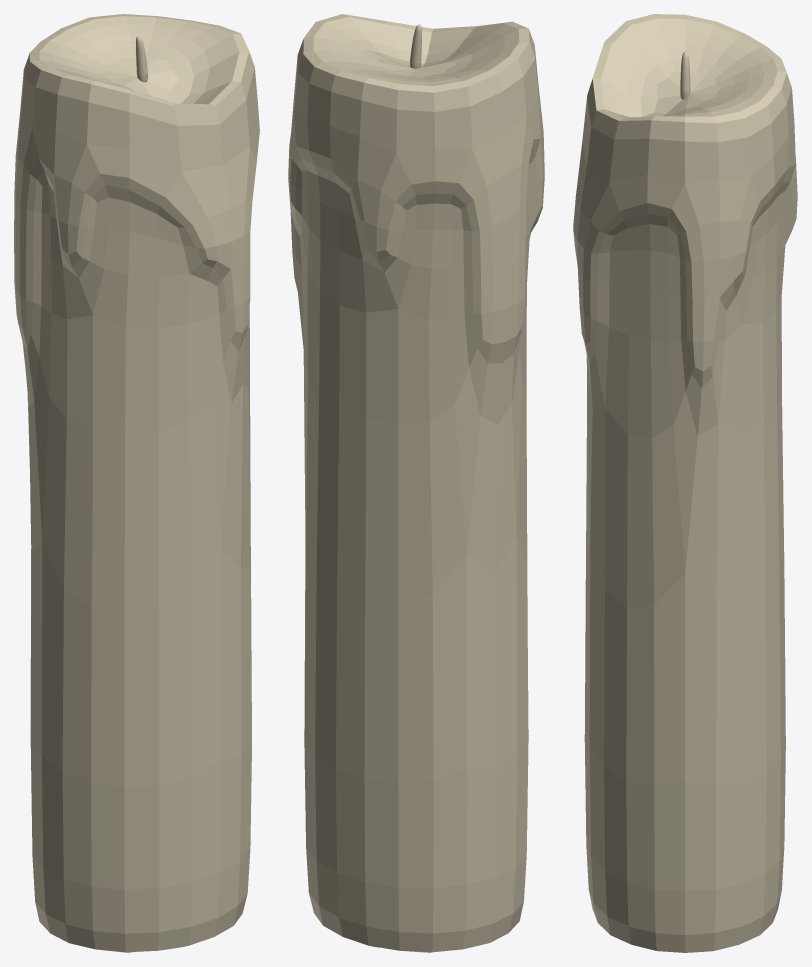
Rendered from CandleSkinnyTall.fbx.
3 renders of one model, left to right at view 1: azimuth 30°, elevation 25°; view 2: azimuth 150°, elevation 25°; view 3: azimuth 270°, elevation 25°, orthographic. The views are drawn at different scales.
Visible parts, largest first — view 1: TallSkinnyCandle; view 2: TallSkinnyCandle; view 3: TallSkinnyCandle.
Part boxes in pixels (x1=…): TallSkinnyCandle: x1=14, y1=14, x2=259, y2=952; TallSkinnyCandle: x1=288, y1=14, x2=544, y2=952; TallSkinnyCandle: x1=573, y1=14, x2=797, y2=952.
Size of the model in its own units: 6.88 by 26.12 by 6.12.
